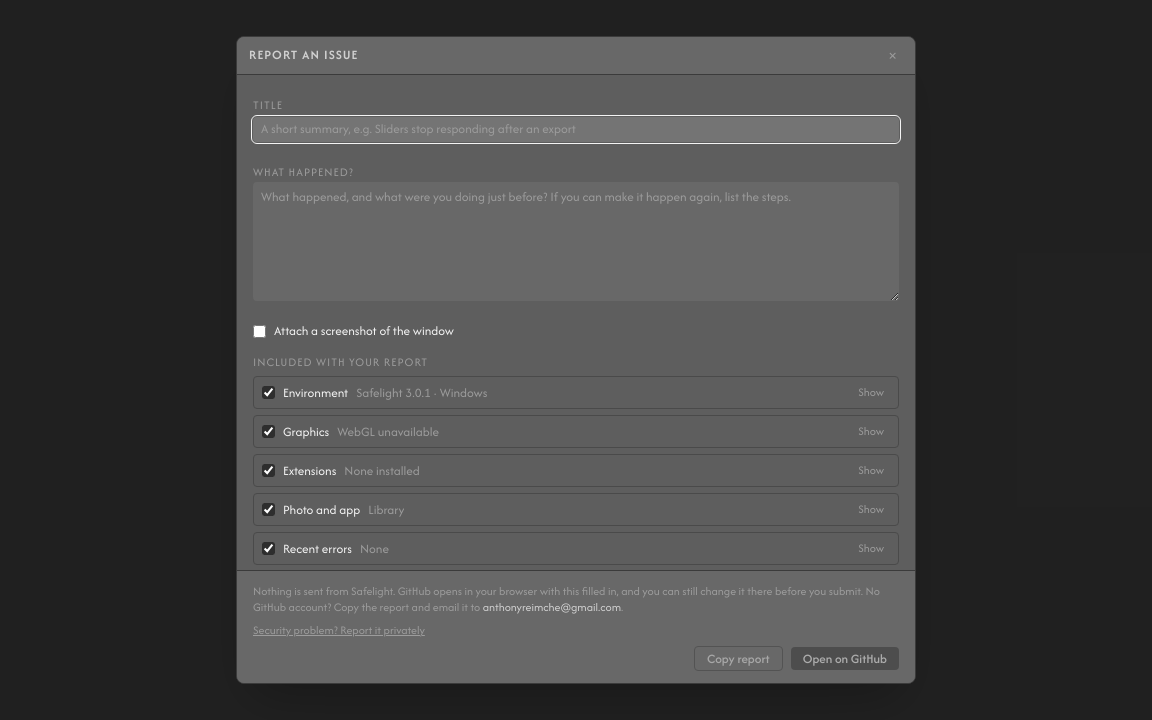
Test case: ReportIssueDialog screenshot › still opens GitHub when the copy fails, without the paste line, and says so
Check: the checkbox named "Include Environment" is shown, box x1=262 y1=386 x2=275 y2=399
Type "Sliders freeze" into the field labelled "Title" at [576, 129], box x1=253 y1=117 x2=899 y2=142
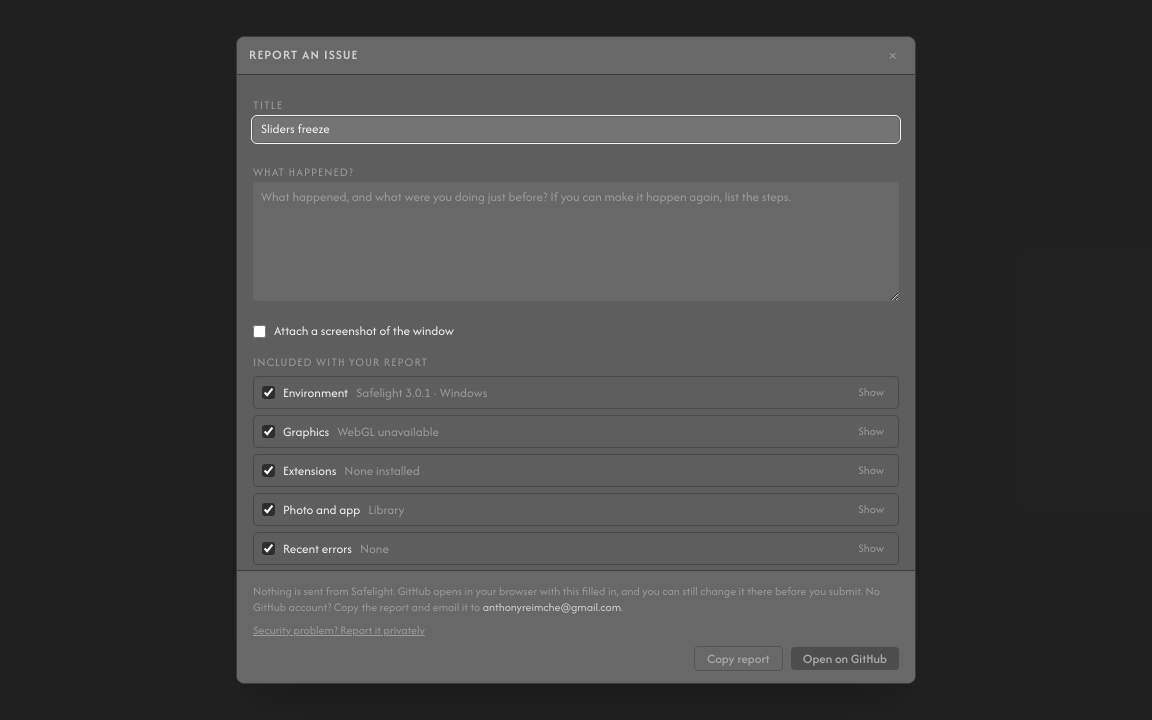
Type "They stop moving." into the text box labelled "What happened?" at [576, 241], box x1=253 y1=182 x2=899 y2=301
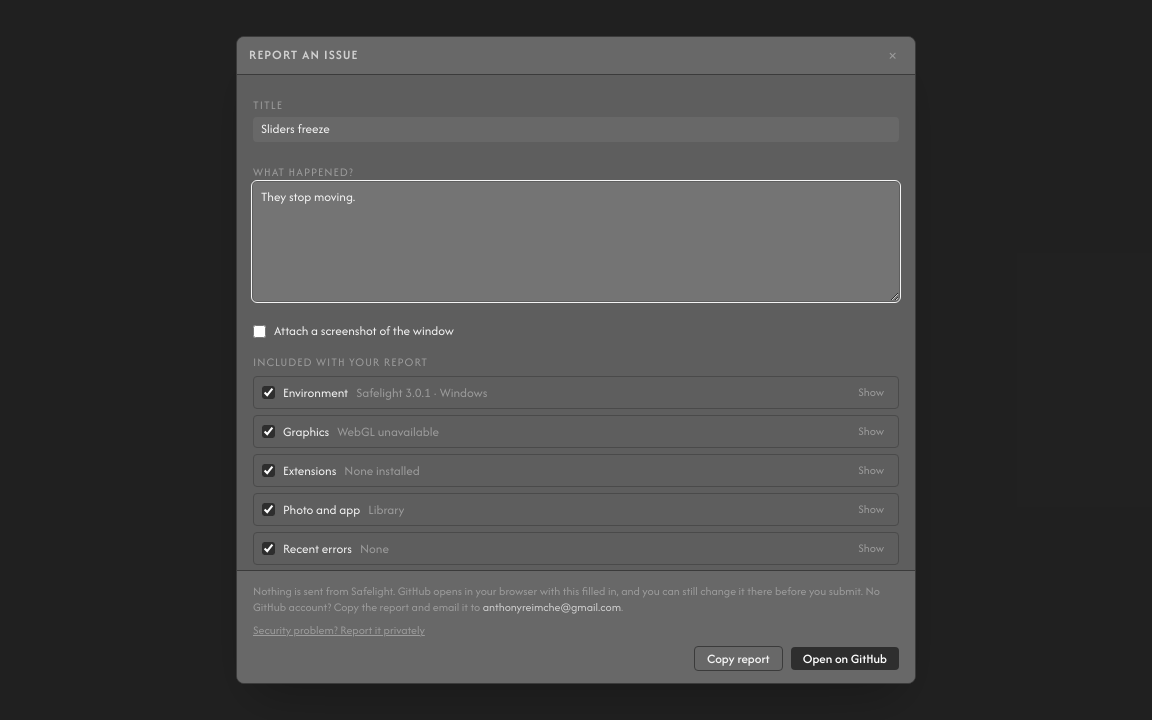
Click the checkbox labelled "Attach a screenshot of the window" at [260, 331], box x1=253 y1=324 x2=266 y2=338
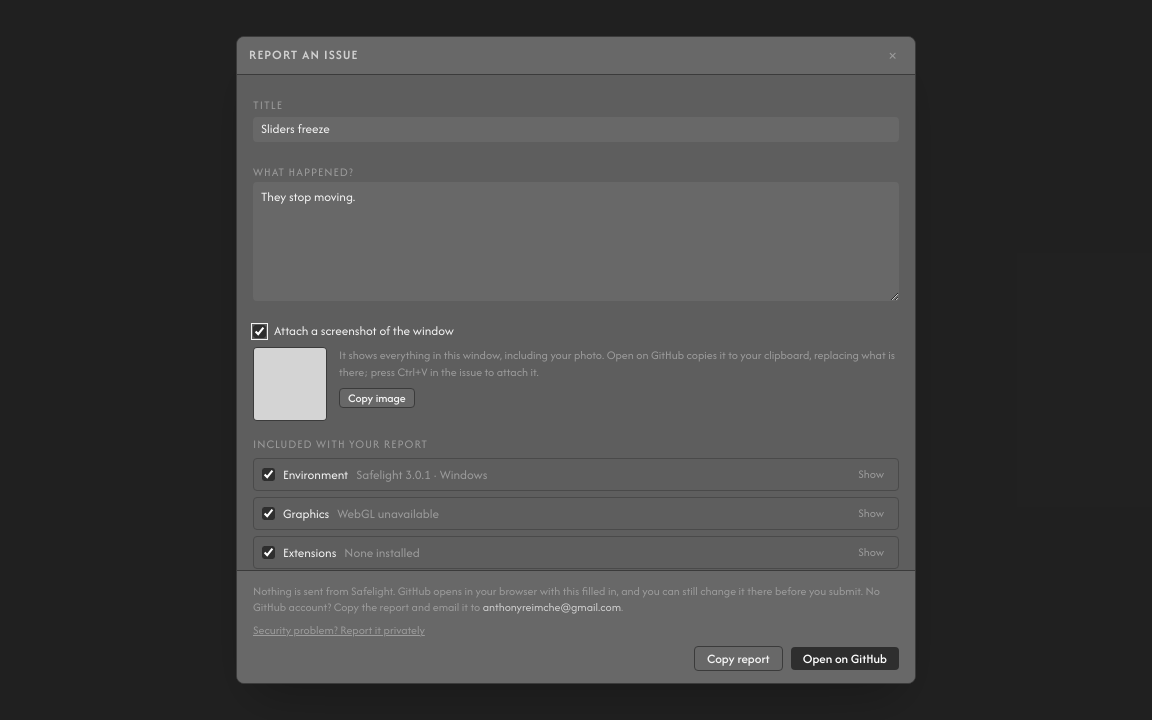
Click the button "Open on GitHub" at [845, 658], box x1=791 y1=647 x2=899 y2=670
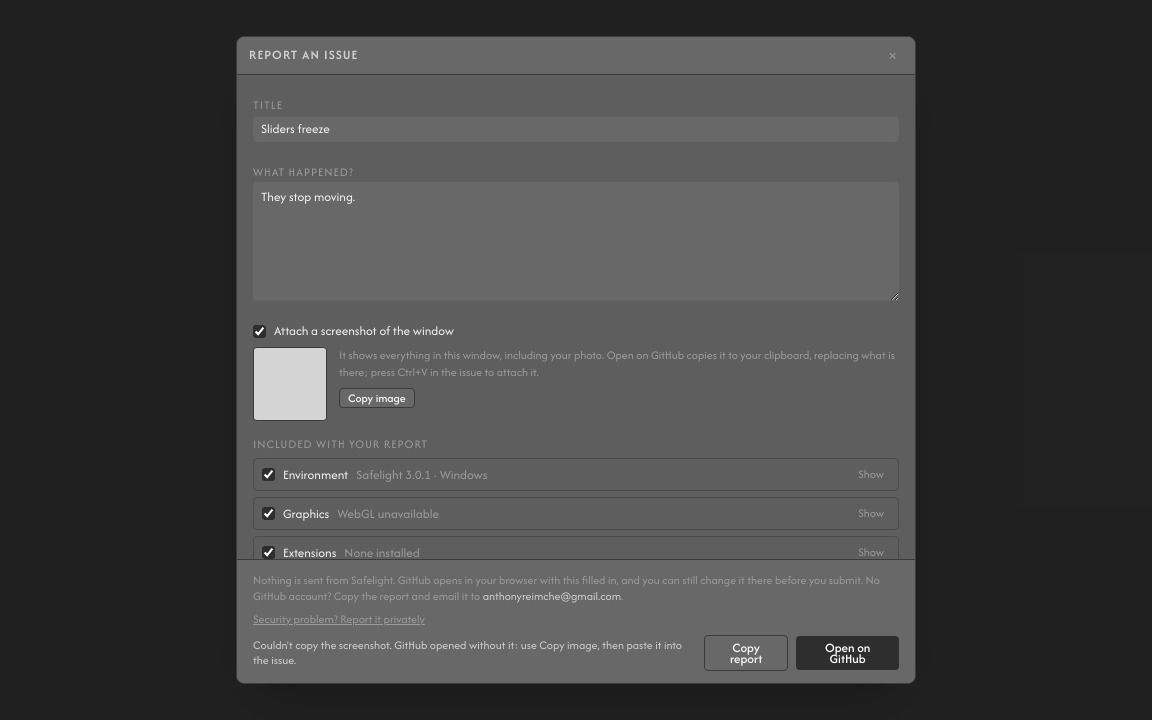
Check: the message shows "Couldn't copy the screenshot", box x1=253 y1=637 x2=682 y2=668
